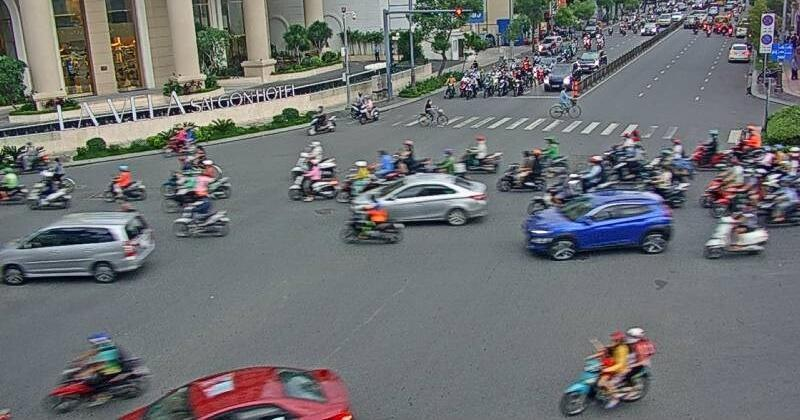xe hoi: (114, 365, 351, 420), (0, 212, 152, 286), (523, 189, 674, 260), (351, 172, 487, 226)
xe may: (559, 324, 652, 417), (101, 164, 147, 203)
